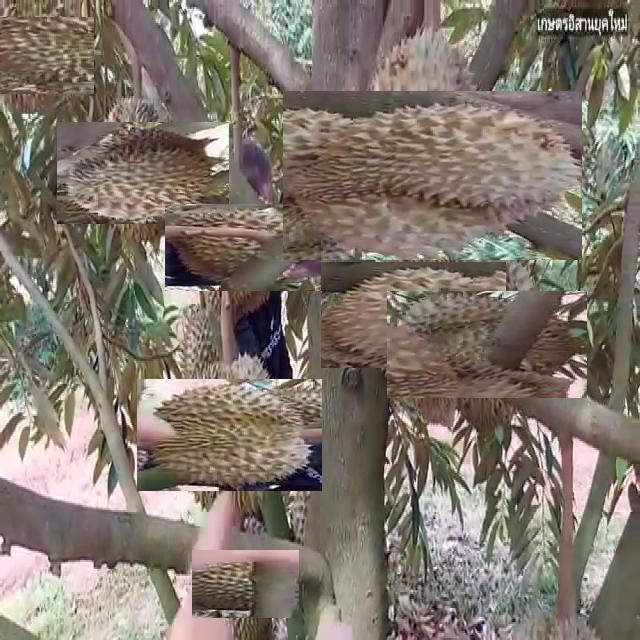durian: (315, 59, 550, 294), (410, 267, 564, 421), (155, 360, 303, 510), (341, 242, 486, 388), (75, 104, 212, 242), (182, 186, 304, 309), (0, 8, 85, 102), (202, 540, 290, 628)
